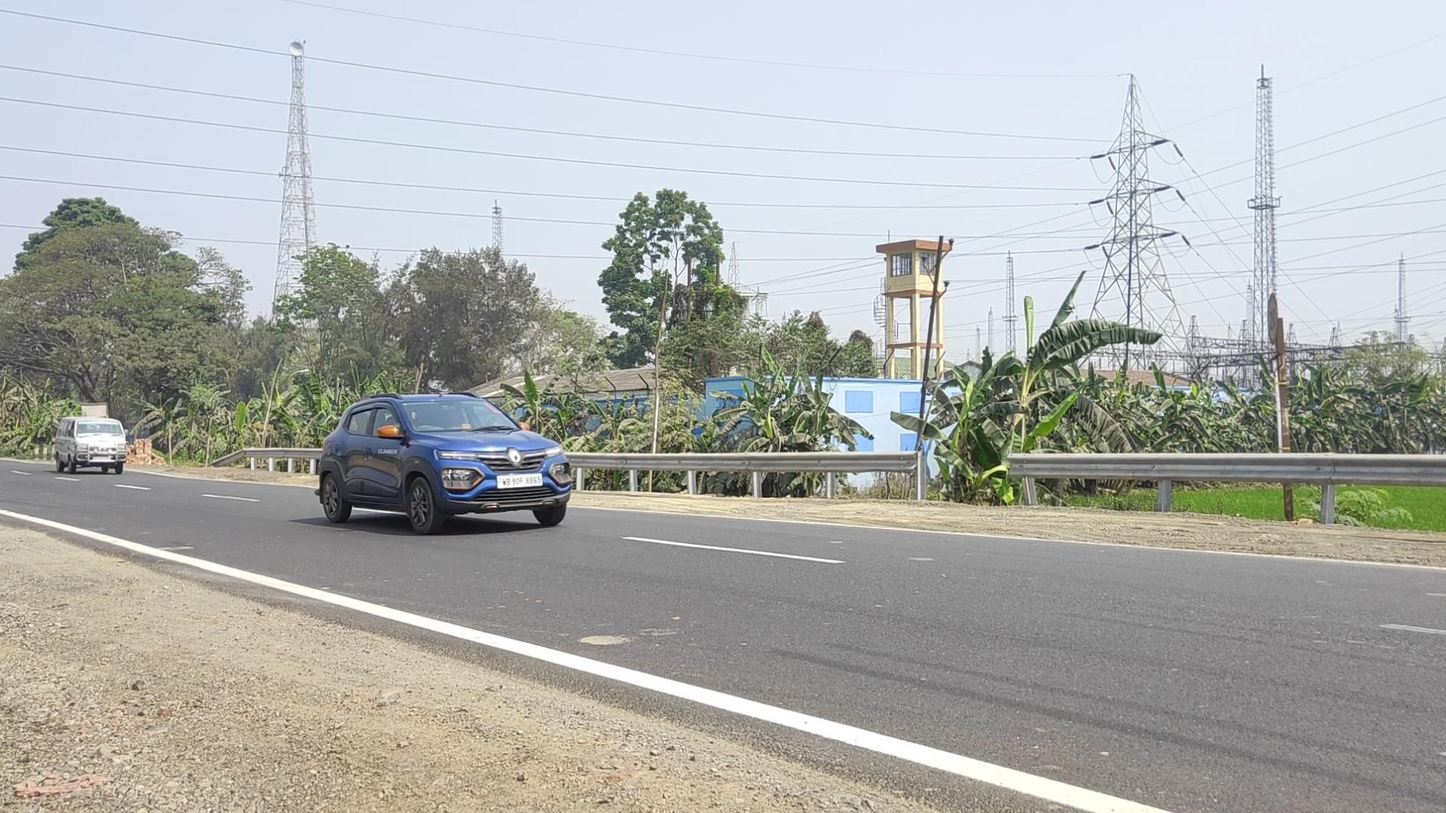car: (315, 391, 573, 536)
van: (53, 416, 129, 475)
